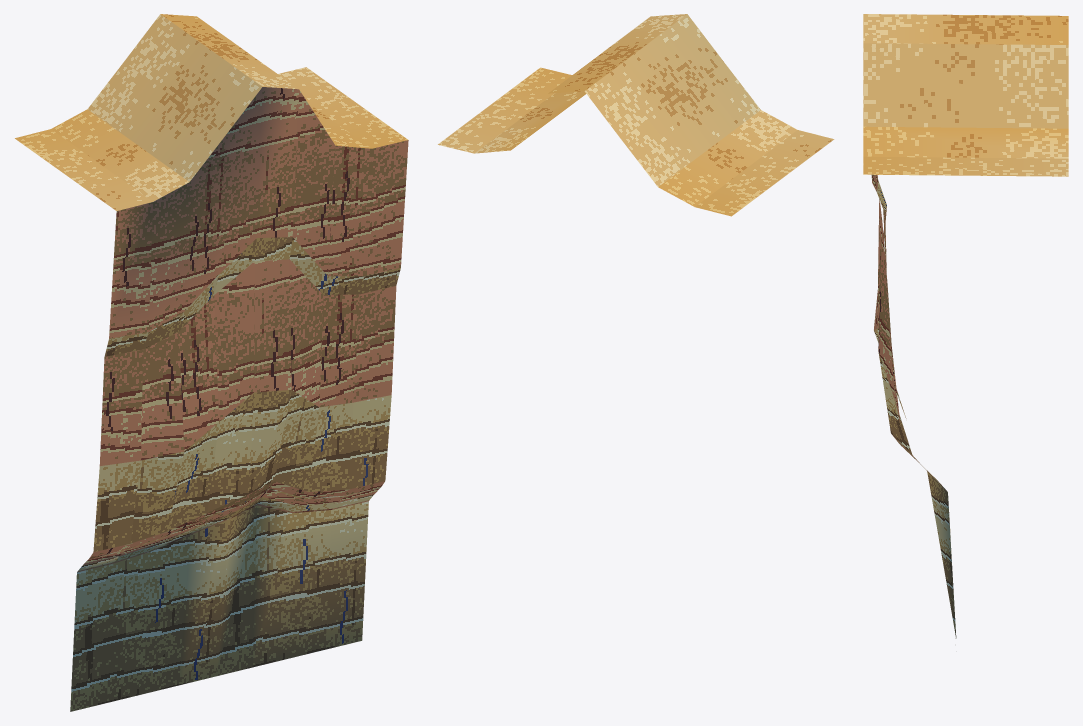
The model's file is wland.canyon_wall__tall.glb.
The picture shows the model from 3 angles, left to right: view 1: azimuth 30°, elevation 25°; view 2: azimuth 150°, elevation 25°; view 3: azimuth 270°, elevation 25°; orthographic projection.
Visible parts, largest first — view 1: kit_shell_face, kit_shell_cap; view 2: kit_shell_cap; view 3: kit_shell_cap, kit_shell_face.
Boxes of the visible parts, x1=… form: kit_shell_face: x1=70, y1=87, x2=408, y2=711; kit_shell_cap: x1=15, y1=14, x2=407, y2=210; kit_shell_cap: x1=438, y1=14, x2=834, y2=216; kit_shell_cap: x1=863, y1=14, x2=1068, y2=176; kit_shell_face: x1=871, y1=174, x2=956, y2=638.
Size of the model in its own units: 8 by 16.32 by 4.85.
3 materials, 3 textured.
